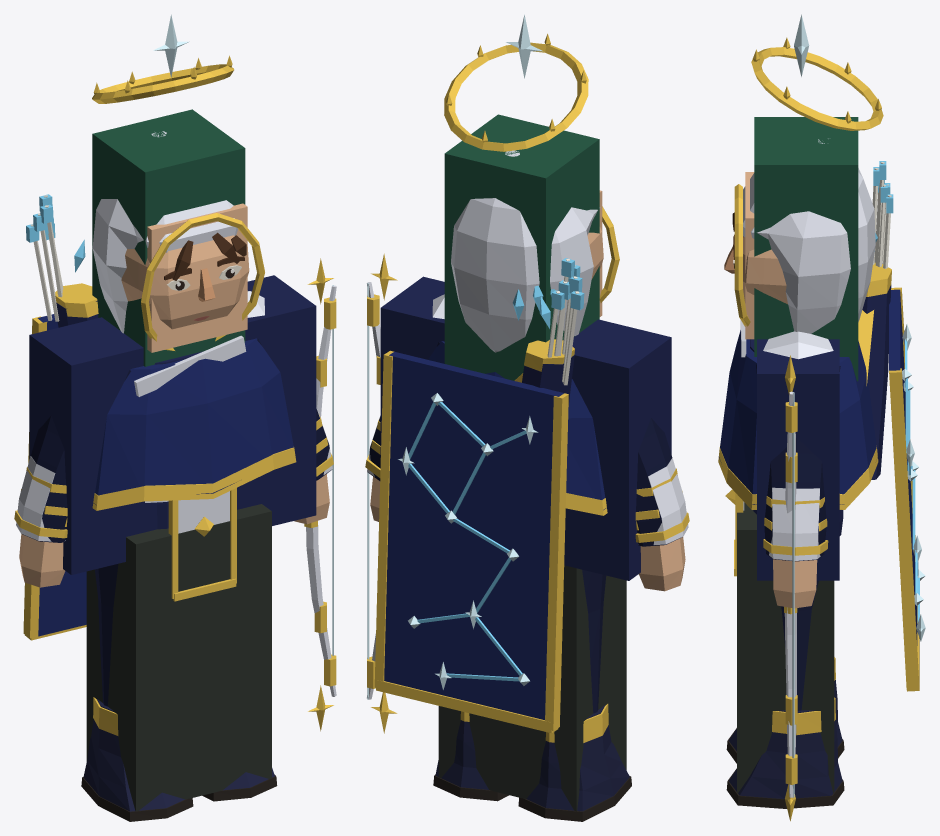
File: kadro-mhellingtr.obj
3 views of the same model, side by side, from view 1: azimuth 30°, elevation 25°; view 2: azimuth 150°, elevation 25°; view 3: azimuth 270°, elevation 25° (orthographic). The views are drawn at different scales.
Parts seen in each view (by area): view 1: okyeli-uzak-bacak, okyeli-uzak-govde, okyeli-pelerin-destansi-efsanevi, okyeli-uzak-baslik, okyeli-kafa, okyeli-kapuson-destansi-efsanevi, okyeli-uzak-kafa, okyeli-cizmeler, okyeli-pelerin-kenari-destansi-efsanevi, mhellingtr-hale, okyeli-kollar, mhellingtr-uzun-pelerin (+19 smaller); view 2: mhellingtr-uzun-pelerin, okyeli-uzak-govde, okyeli-uzak-baslik, okyeli-uzak-bacak, okyeli-kapuson-destansi-efsanevi, mhellingtr-uzun-pelerin-kenari, okyeli-cizmeler, mhellingtr-hale, okyeli-pelerin-destansi-efsanevi, mhellingtr-takimyildiz, okyeli-kollar, okyeli-eller (+16 smaller); view 3: okyeli-uzak-baslik, okyeli-uzak-bacak, okyeli-uzak-govde, okyeli-kapuson-destansi-efsanevi, okyeli-pelerin-destansi-efsanevi, okyeli-cizmeler, mhellingtr-uzun-pelerin-kenari, mhellingtr-hale, okyeli-sadak-destansi-efsanevi, okyeli-bileklikler, okyeli-kollar, okyeli-eller (+22 smaller).
Boxes of the visible parts, left/top/right/bottom form: okyeli-uzak-bacak: left=86, top=504, right=271, bottom=811; okyeli-uzak-govde: left=29, top=275, right=316, bottom=574; okyeli-pelerin-destansi-efsanevi: left=93, top=338, right=293, bottom=505; okyeli-uzak-baslik: left=92, top=109, right=245, bottom=366; okyeli-kafa: left=121, top=235, right=249, bottom=329; okyeli-kapuson-destansi-efsanevi: left=92, top=131, right=237, bottom=333; okyeli-uzak-kafa: left=147, top=203, right=247, bottom=352; okyeli-cizmeler: left=83, top=699, right=274, bottom=811; okyeli-pelerin-kenari-destansi-efsanevi: left=92, top=447, right=296, bottom=510; mhellingtr-hale: left=92, top=55, right=234, bottom=103; okyeli-kollar: left=22, top=339, right=331, bottom=542; mhellingtr-uzun-pelerin: left=37, top=314, right=86, bottom=636; mhellingtr-uzun-pelerin: left=384, top=351, right=564, bottom=720; okyeli-uzak-govde: left=380, top=276, right=671, bottom=580; okyeli-uzak-baslik: left=444, top=114, right=599, bottom=380; okyeli-uzak-bacak: left=438, top=565, right=626, bottom=811; okyeli-kapuson-destansi-efsanevi: left=451, top=150, right=599, bottom=352; mhellingtr-uzun-pelerin-kenari: left=374, top=350, right=568, bottom=733; okyeli-cizmeler: left=435, top=705, right=629, bottom=811; mhellingtr-hale: left=444, top=33, right=588, bottom=151; okyeli-pelerin-destansi-efsanevi: left=428, top=341, right=606, bottom=510; mhellingtr-takimyildiz: left=408, top=402, right=526, bottom=681; okyeli-kollar: left=367, top=342, right=682, bottom=546; okyeli-eller: left=370, top=476, right=685, bottom=591; okyeli-uzak-baslik: left=754, top=117, right=858, bottom=381; okyeli-uzak-bacak: left=737, top=502, right=834, bottom=793; okyeli-uzak-govde: left=757, top=339, right=839, bottom=580; okyeli-kapuson-destansi-efsanevi: left=743, top=138, right=875, bottom=333; okyeli-pelerin-destansi-efsanevi: left=718, top=330, right=877, bottom=504; okyeli-cizmeler: left=729, top=680, right=842, bottom=798; mhellingtr-uzun-pelerin-kenari: left=889, top=287, right=919, bottom=691; mhellingtr-hale: left=751, top=37, right=883, bottom=130; okyeli-sadak-destansi-efsanevi: left=862, top=285, right=891, bottom=479; okyeli-bileklikler: left=769, top=487, right=820, bottom=560; okyeli-kollar: left=756, top=364, right=840, bottom=561; okyeli-eller: left=773, top=559, right=817, bottom=608.
Size of the model in its own units: 22.49 by 52.4 by 13.03.
